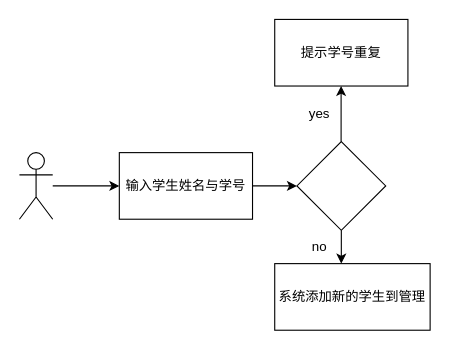
Some shapes in this 450 by 350 pixel diagram are drawn without their labels. Each missing label, with the centre of its shape:
"Actor" belongs at (35,185).
"学号重复？" belongs at (341,185).
